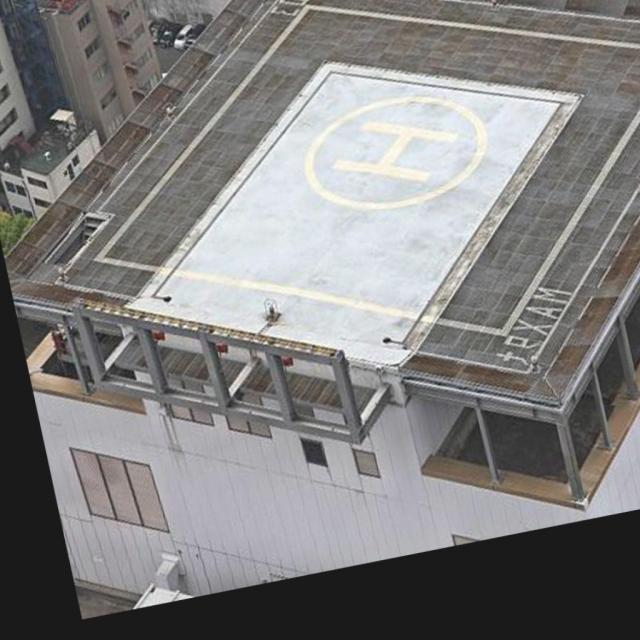helipad: (300, 90, 492, 212)
